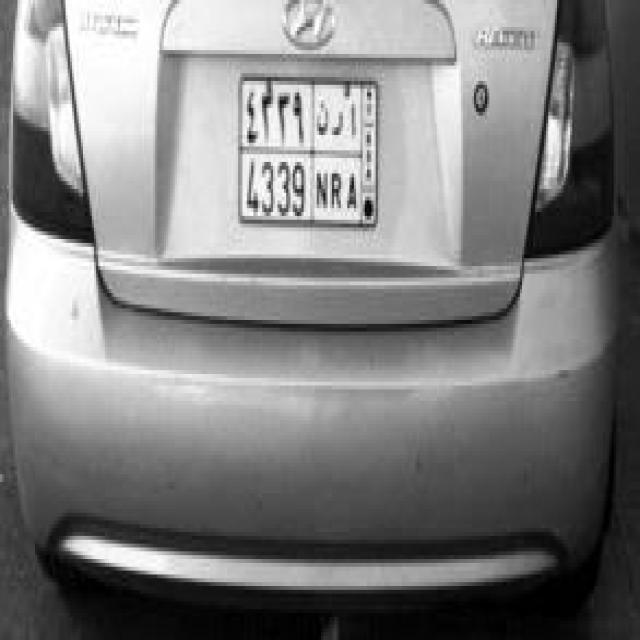license_plate: (220, 42, 387, 250)
